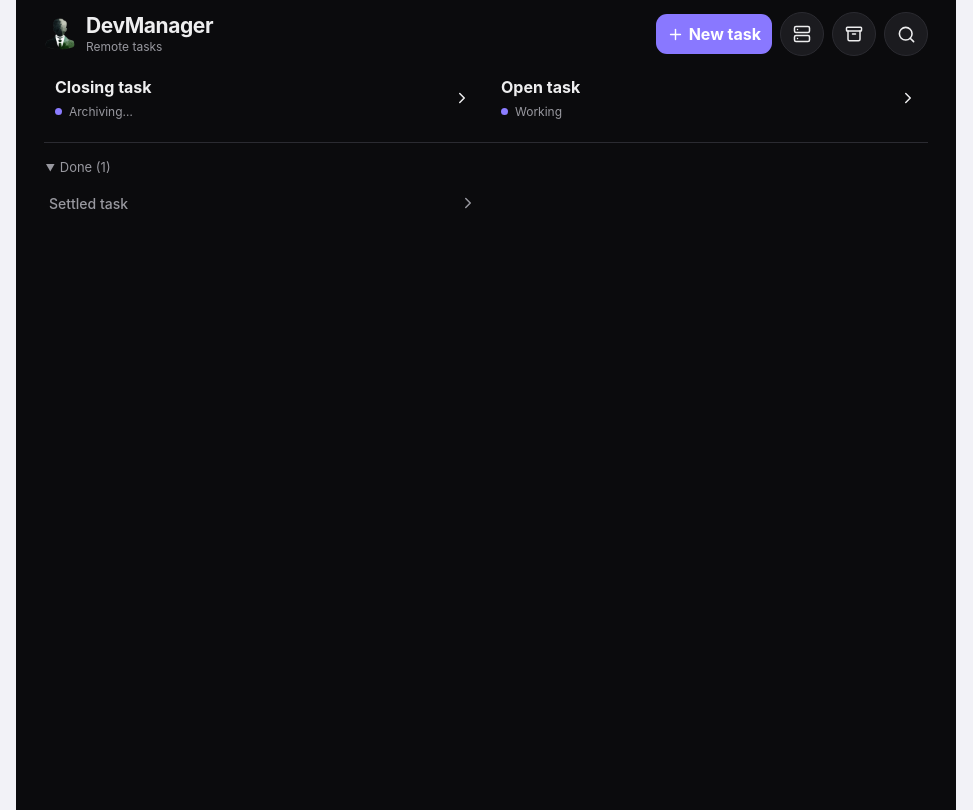
Scenario: NativeRemoteApp › keeps Done compact at the bottom and archives behind a separate icon
Expected: the text "Open task" is shown, [501,75,580,100]
Expected: the text "Working" is shown, [501,103,580,121]
Click the button named "Show archived tasks". click: (854, 34)
box: [832,12,876,56]
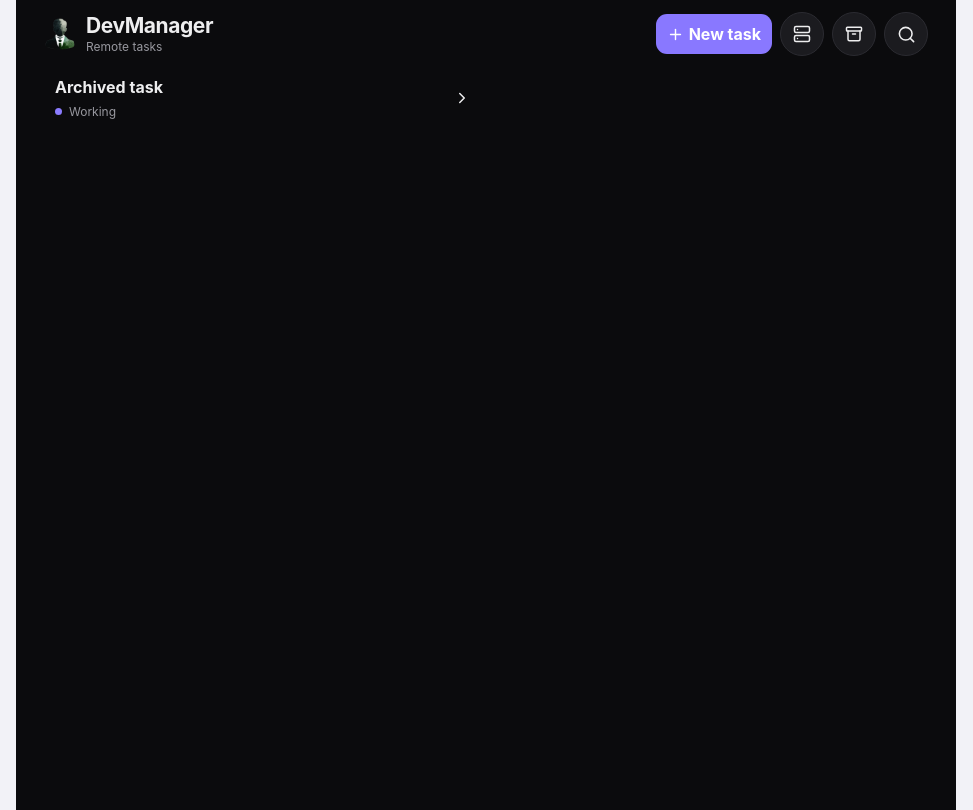
Now the element named "Archived tasks" is shown, box [44,62,482,134]
Now the text "Archived task" is shown, box [55,75,163,100]
